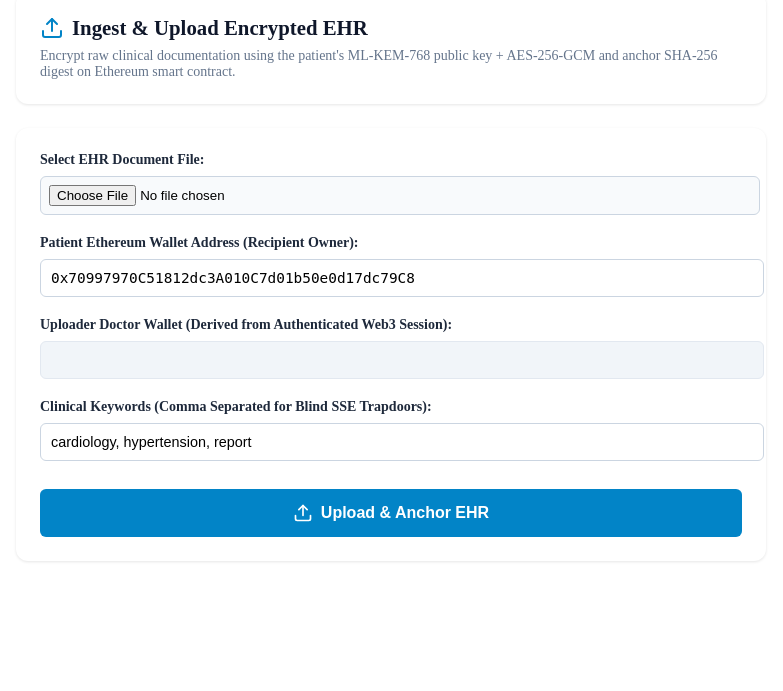
Test: Doctor Workspace & EHR Pipeline Test Suite › validates upload inputs and prevents empty uploads
expect the heading "Ingest & Upload Encrypted EHR" is shown: met, box x1=72 y1=16 x2=368 y2=40
# Submit without file
Click the button "Upload & Anchor EHR": (391, 513) x1=40 y1=489 x2=742 y2=537
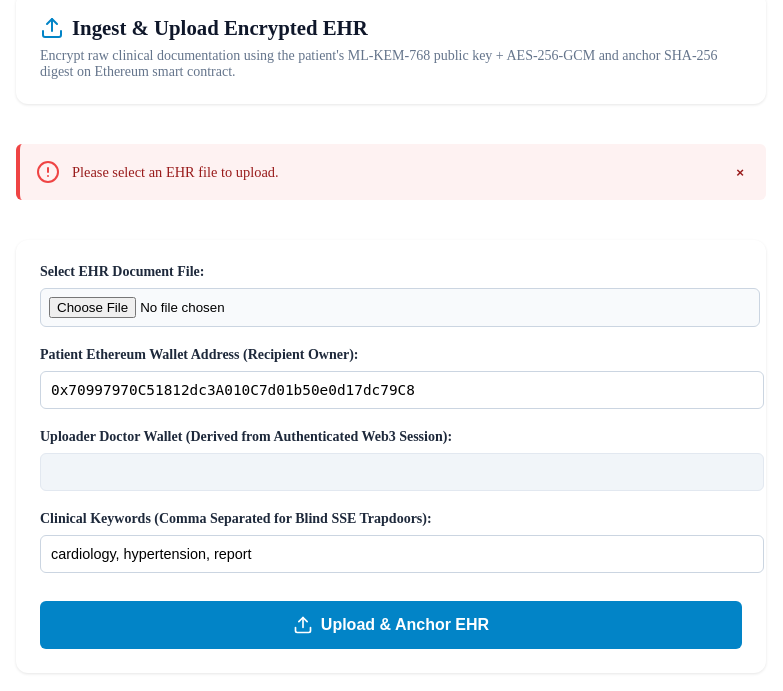
expect the text "Please select an EHR file to upload." is shown: met, box x1=72 y1=164 x2=279 y2=180
